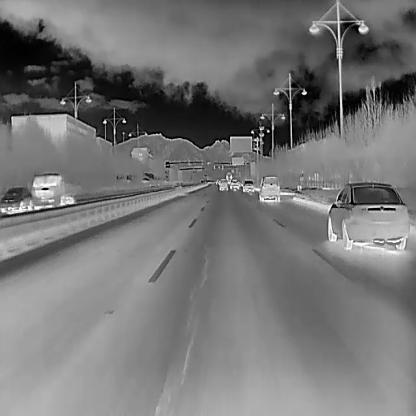car: (326, 181, 408, 250), (30, 171, 66, 209), (0, 186, 34, 214), (258, 174, 280, 202), (242, 178, 253, 192), (229, 177, 239, 189), (218, 178, 228, 190)
truck: (225, 170, 232, 180)
